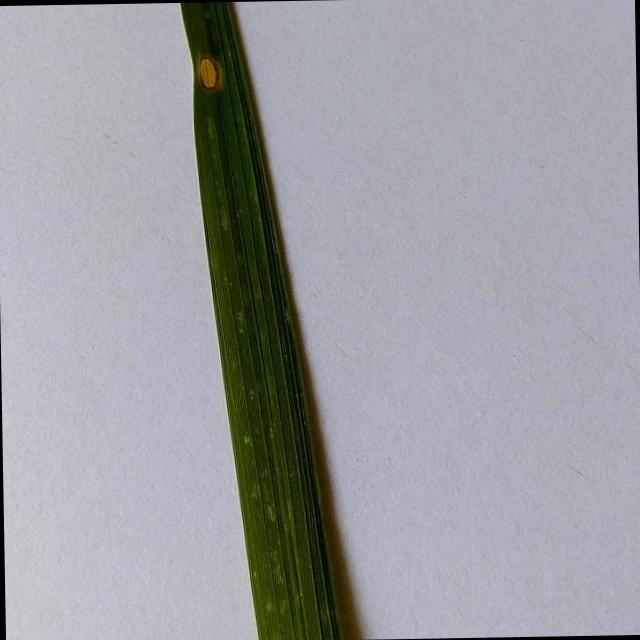Rice_Blast: (182, 38, 224, 92)
